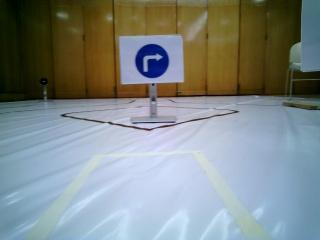right: (123, 39, 182, 80)
